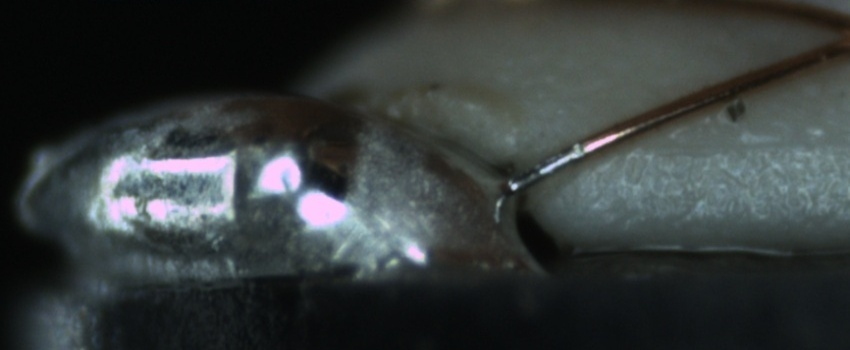DL: (611, 113, 849, 177)
TS: (510, 141, 584, 197)
